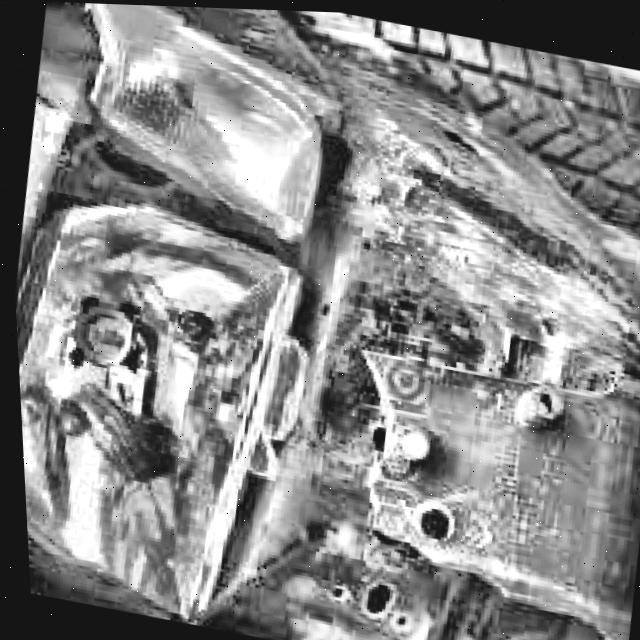head_lamp: (0, 0, 338, 630)
